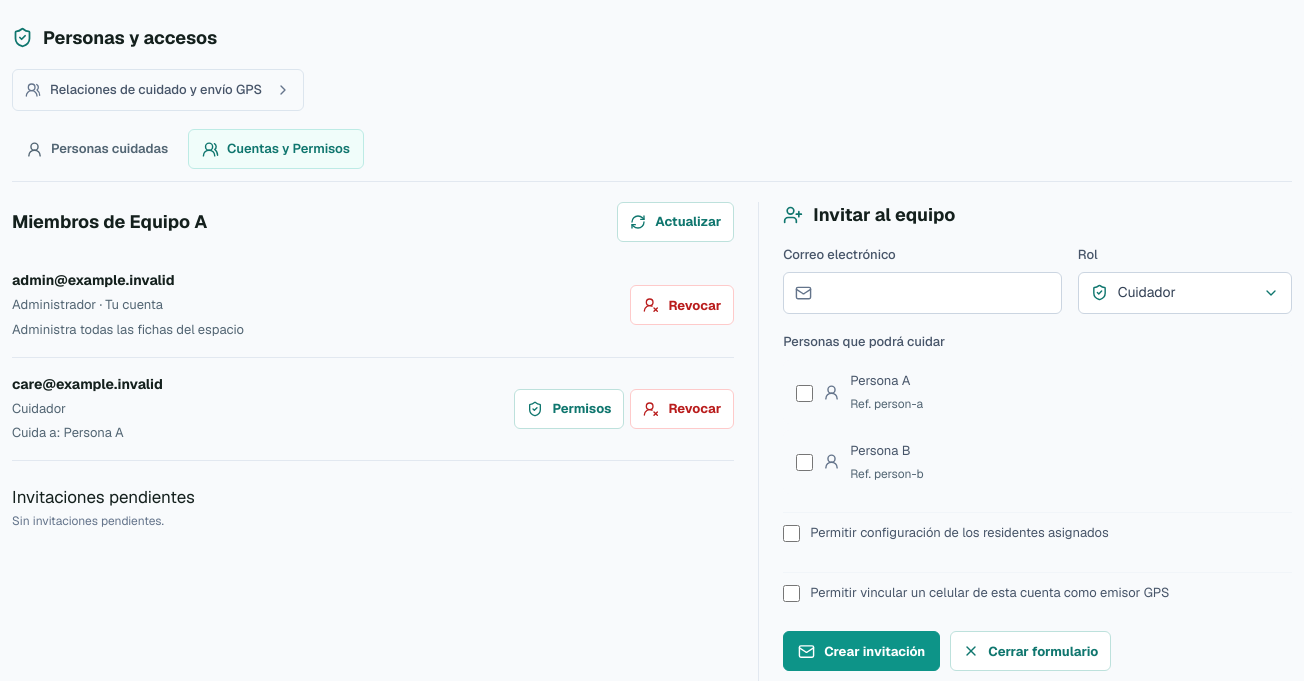
Test: mail service failure is shown separately from a stored invitation
Expected: the checkbox labelled "Persona A" is shown, left=796, top=385, right=813, bottom=402
In the field labelled "Correo electrónico": (922, 293) left=783, top=272, right=1062, bottom=314, type "new@example.invalid"
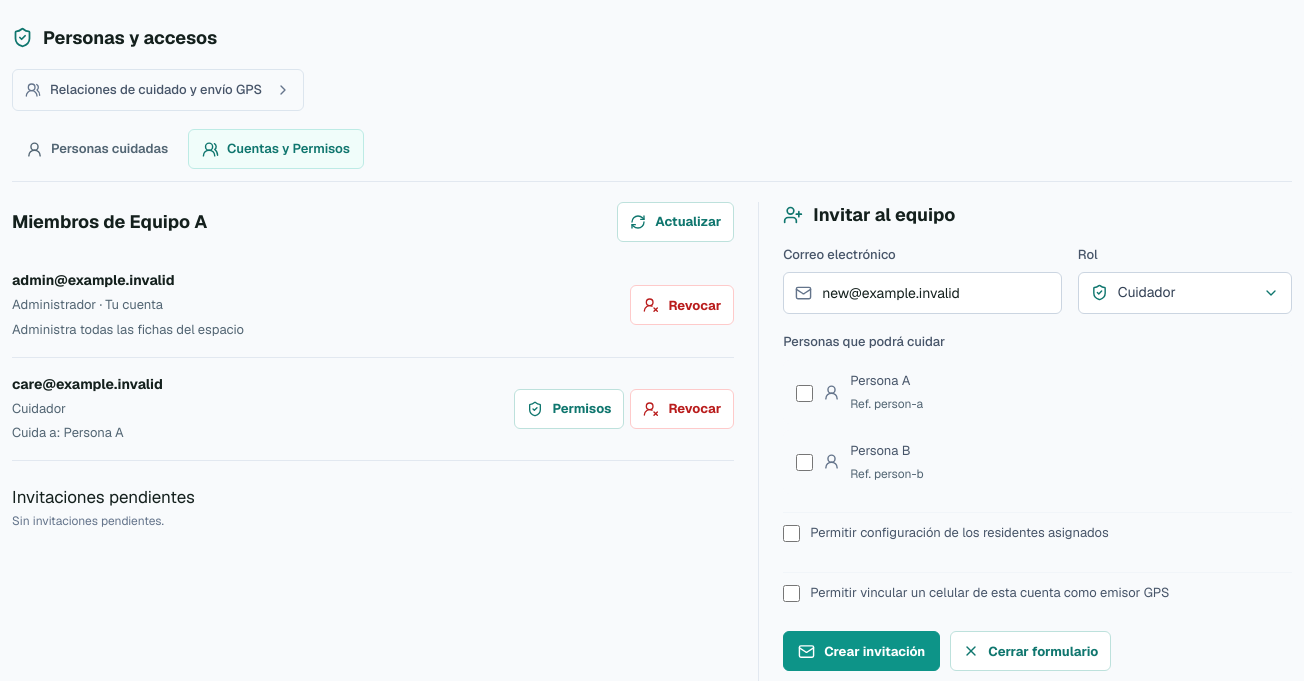
Click the checkbox labelled "Persona A": (805, 393) left=796, top=385, right=813, bottom=402
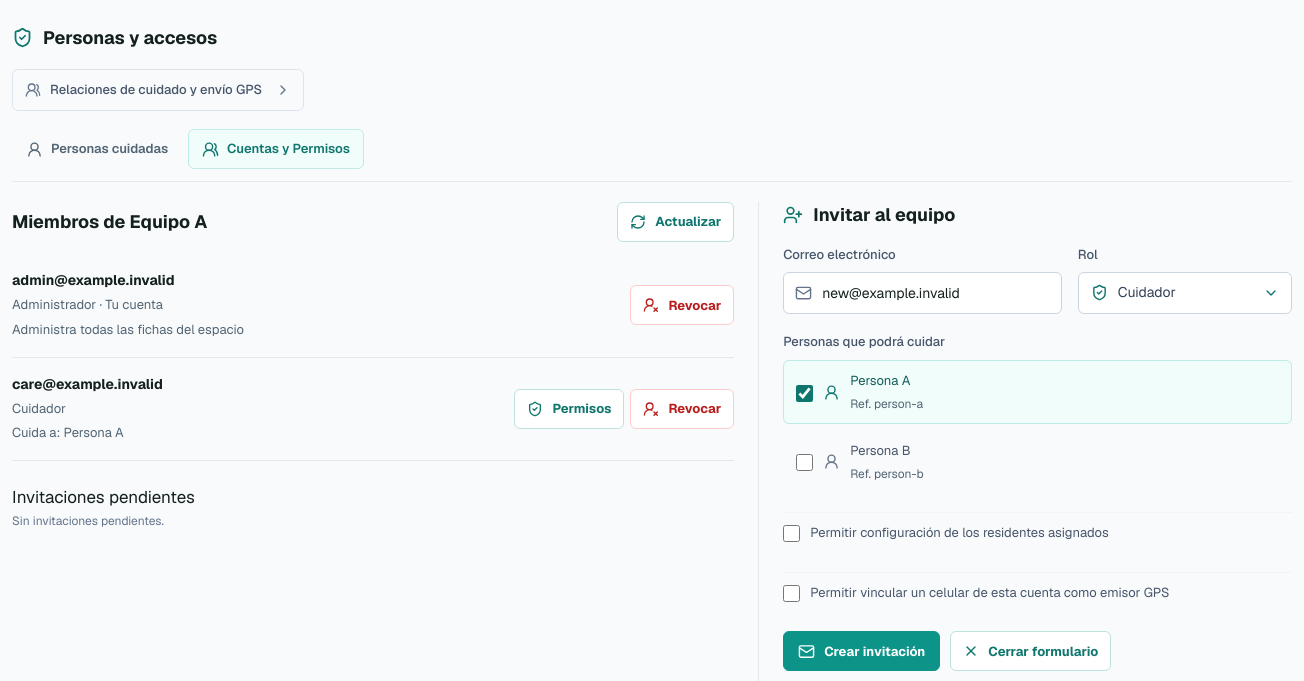
Click the button "Crear invitación": (862, 651) left=783, top=631, right=940, bottom=671
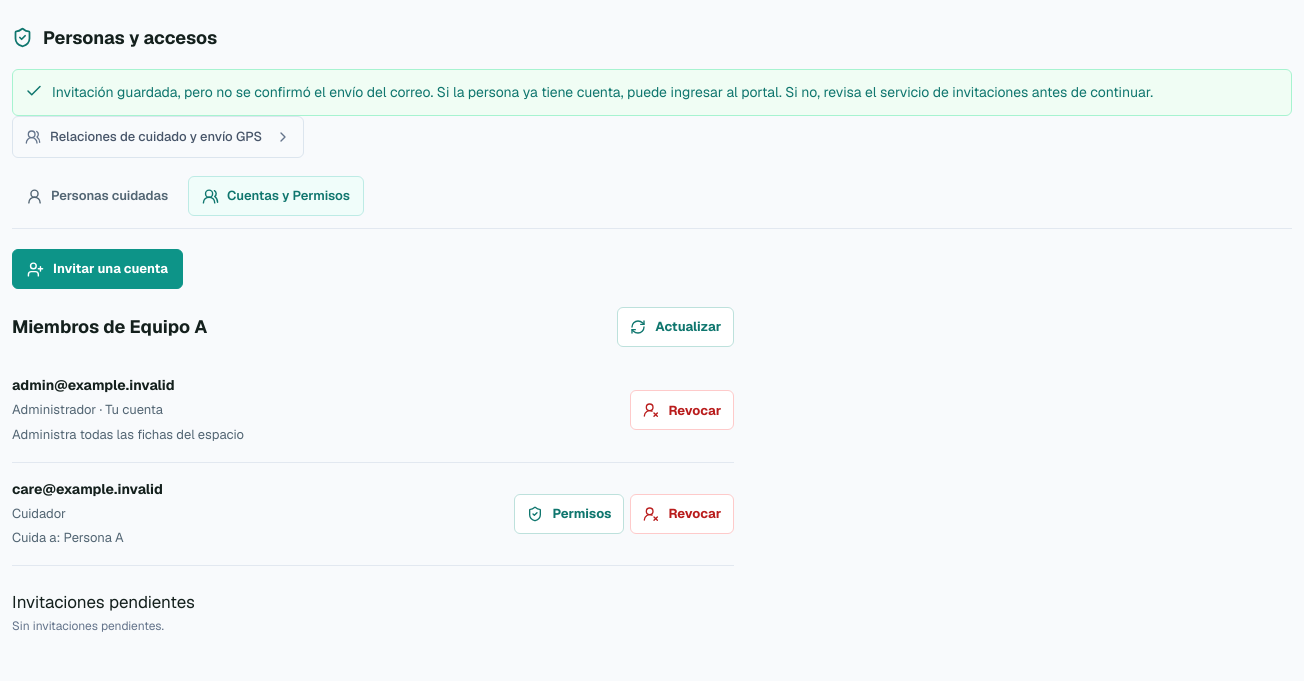
Expected: the text "no se confirmó el envío del correo" is shown, left=52, top=83, right=1153, bottom=101
